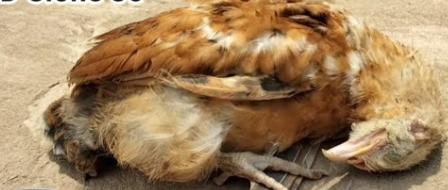AbNormal: (46, 0, 447, 190)
